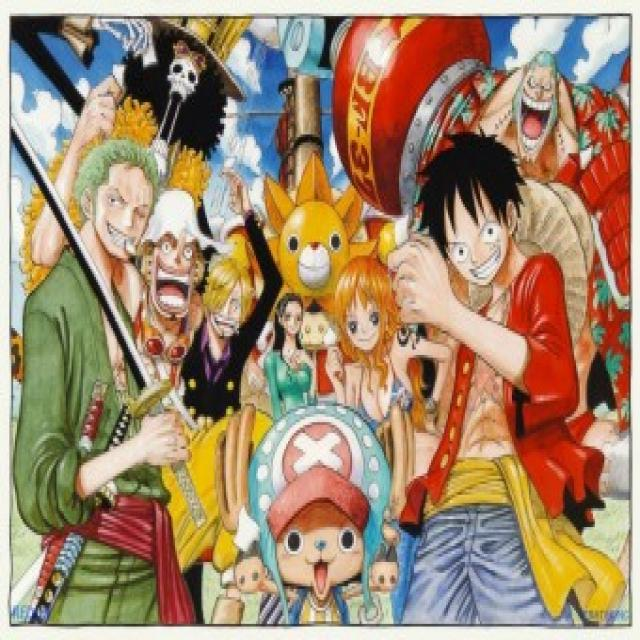Blook: (120, 0, 248, 158)
Chyopa: (226, 387, 398, 640)
Franky: (494, 57, 574, 163)
Luffy: (418, 137, 528, 292)
Nami: (330, 253, 402, 384)
NicoRobin: (263, 291, 313, 350)
Sangdi: (199, 236, 265, 356)
Usopp: (134, 190, 216, 339)
Zoro: (66, 143, 164, 265)
